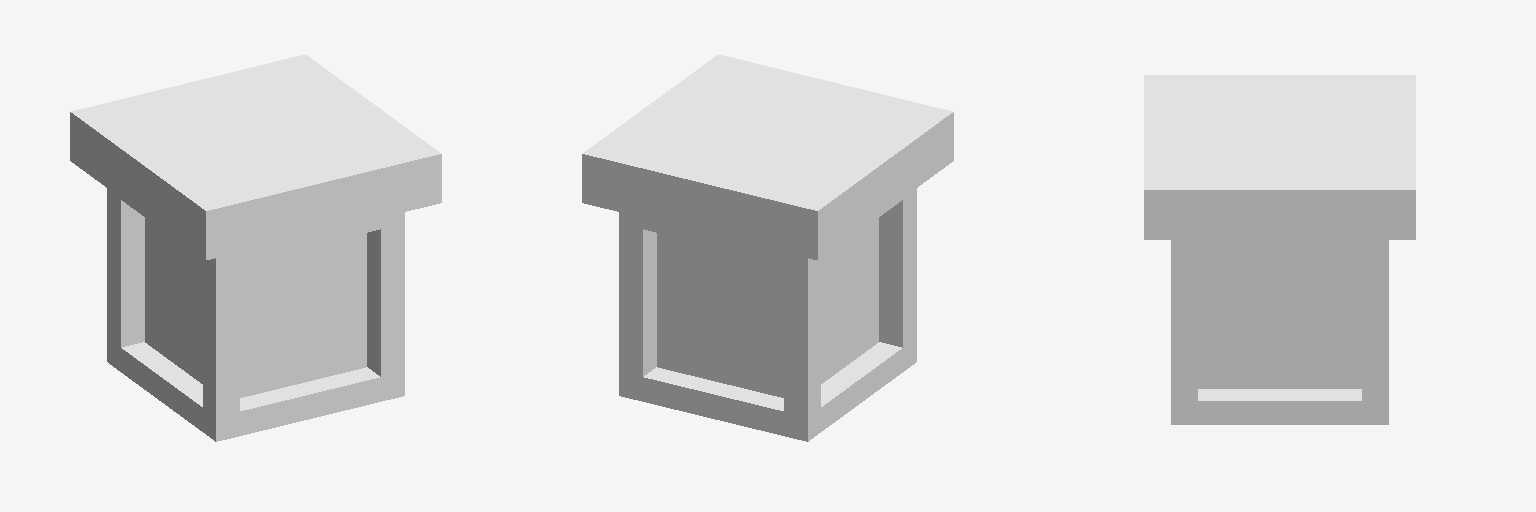
Rendered from block_10_10_10.obj.
3 views of the same model, side by side, from view 1: azimuth 30°, elevation 25°; view 2: azimuth 150°, elevation 25°; view 3: azimuth 270°, elevation 25° (orthographic).
Visible parts, largest first — view 1: object 1; view 2: object 1; view 3: object 1.
Boxes of the visible parts, box(x1,y1,x2,y2) form: object 1: box(70, 54, 441, 441); object 1: box(582, 54, 953, 441); object 1: box(1144, 75, 1415, 424).
Size of the model in its own units: 1 by 1 by 1.